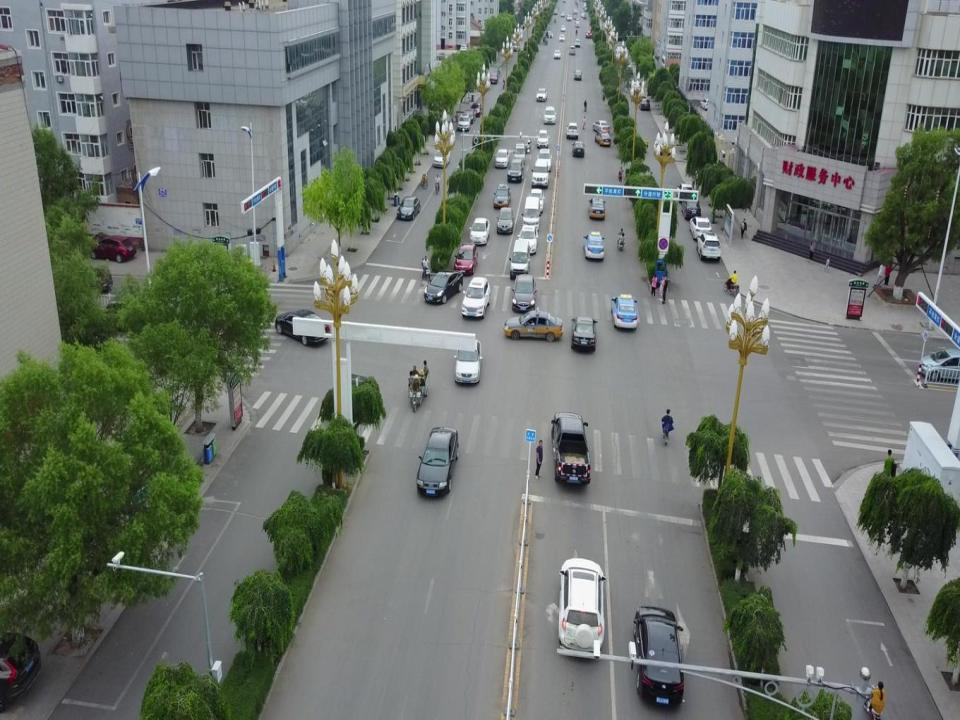car: (632, 604, 684, 708), (558, 559, 606, 653), (416, 426, 458, 499), (275, 305, 328, 345), (102, 297, 154, 335), (503, 308, 564, 340), (89, 234, 137, 264), (424, 268, 463, 304), (70, 262, 112, 294), (918, 348, 960, 380), (454, 339, 482, 386), (461, 276, 492, 318), (610, 294, 638, 330), (572, 316, 598, 353), (513, 274, 536, 314), (454, 243, 478, 276), (697, 232, 723, 262), (398, 195, 422, 220), (690, 218, 714, 243), (584, 232, 605, 260), (517, 225, 538, 253), (469, 216, 490, 244), (676, 182, 696, 210), (682, 197, 702, 223), (496, 207, 515, 234), (508, 157, 525, 184), (588, 198, 605, 220), (536, 147, 552, 170), (528, 188, 544, 211), (434, 148, 450, 168), (495, 148, 510, 168), (594, 132, 611, 148), (566, 120, 579, 140), (571, 140, 585, 157), (536, 130, 549, 148), (544, 106, 556, 125), (458, 114, 471, 131), (535, 86, 548, 102), (519, 136, 531, 153), (464, 109, 476, 124), (638, 97, 650, 111), (471, 102, 481, 116), (489, 72, 499, 84), (511, 38, 520, 50), (632, 81, 641, 93), (574, 70, 582, 81), (624, 64, 632, 75), (554, 49, 561, 60), (585, 29, 592, 39), (558, 34, 565, 41), (575, 39, 581, 47), (546, 30, 552, 38), (560, 24, 565, 32), (576, 22, 580, 28)
truck: (550, 412, 592, 485)
van: (510, 240, 532, 279), (522, 198, 540, 229), (531, 161, 550, 186), (569, 46, 576, 56)
